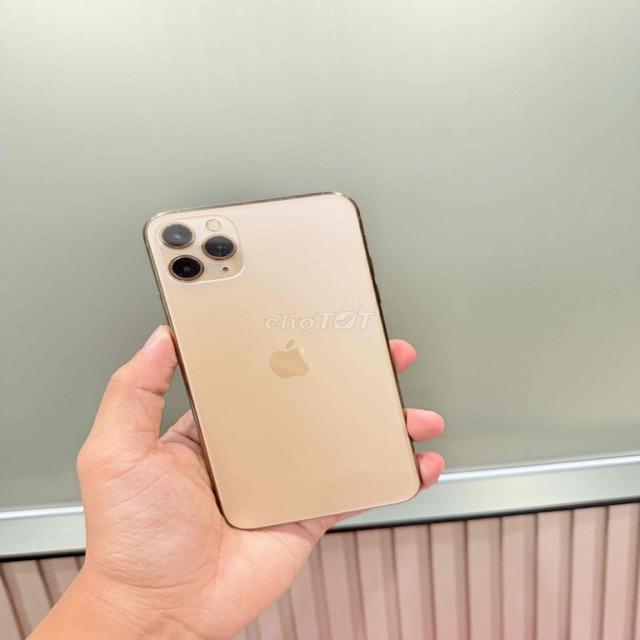scratch: (211, 242, 246, 260), (174, 267, 204, 283), (178, 219, 201, 239)
